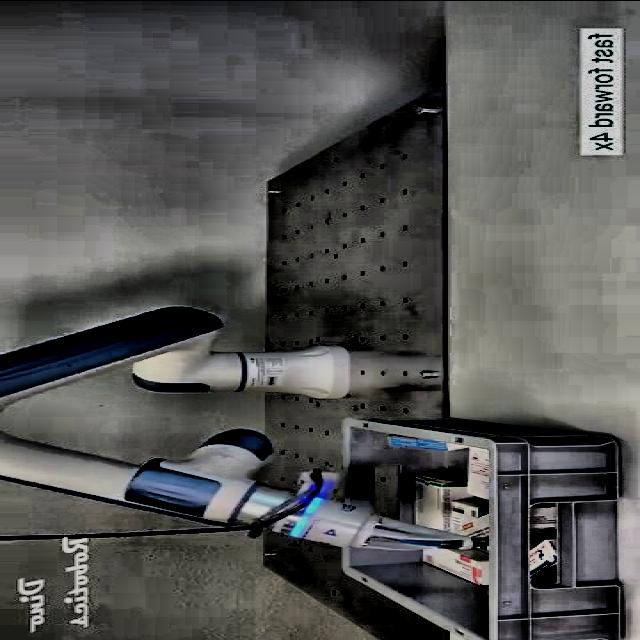robot: (0, 304, 487, 553)
